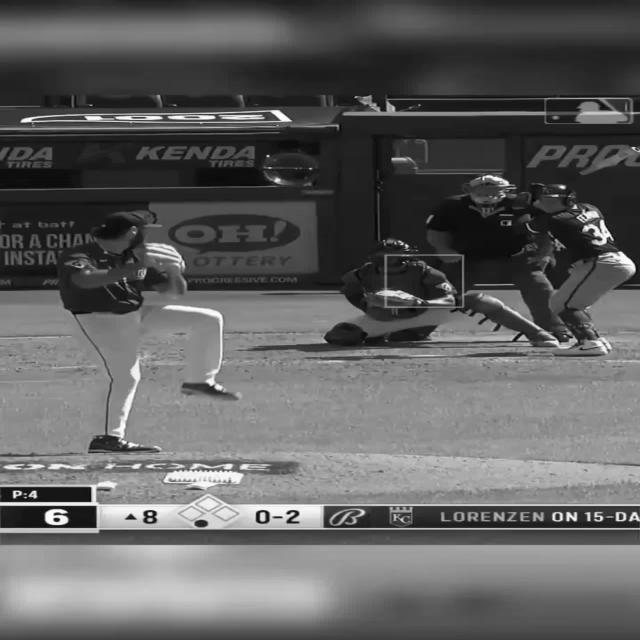baseball_glove: (360, 289, 428, 320), (135, 245, 187, 271)
shoe: (87, 434, 161, 454), (551, 337, 610, 356), (180, 382, 242, 400), (324, 322, 366, 346), (528, 330, 558, 347), (385, 330, 431, 341), (550, 330, 572, 342)
